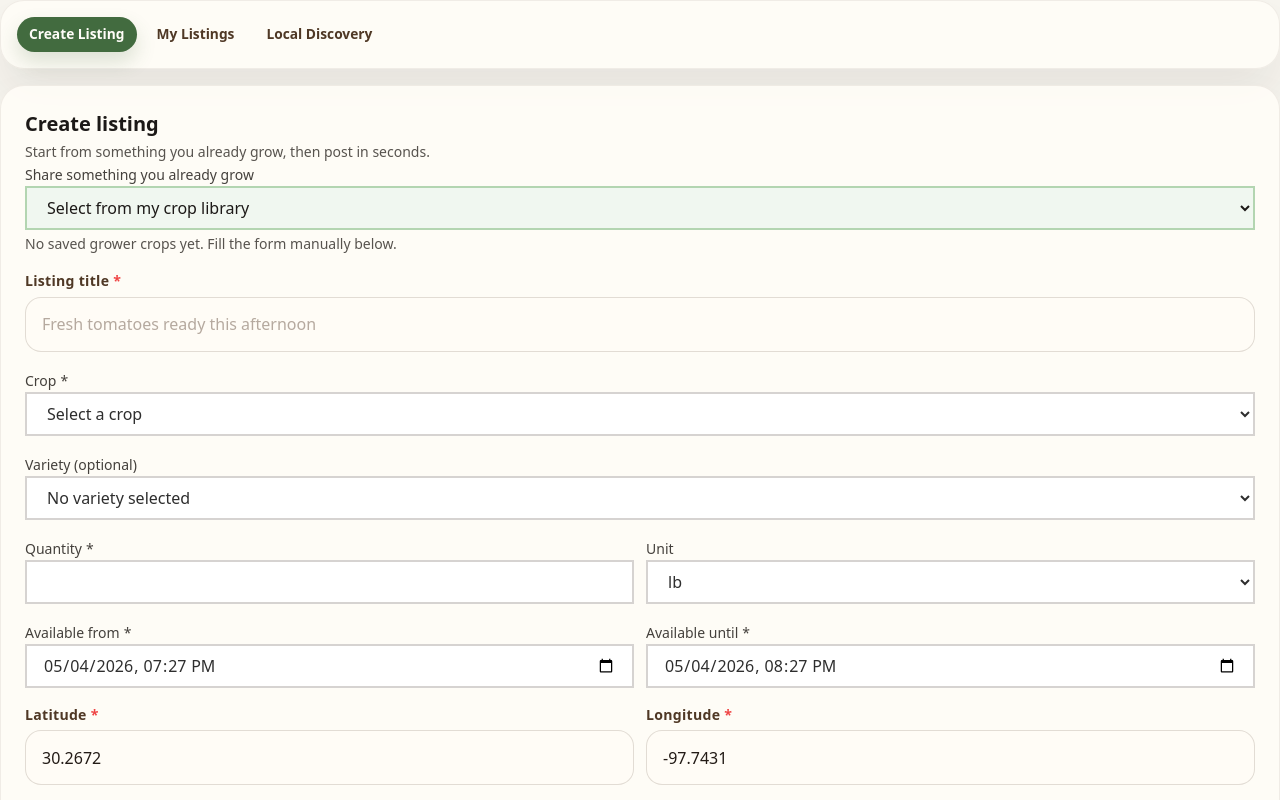
Test: GrowerListingPanel › shows error state when listing queries fail
Click the tab "My Listings". click: (195, 34)
box: [144,17,246,52]
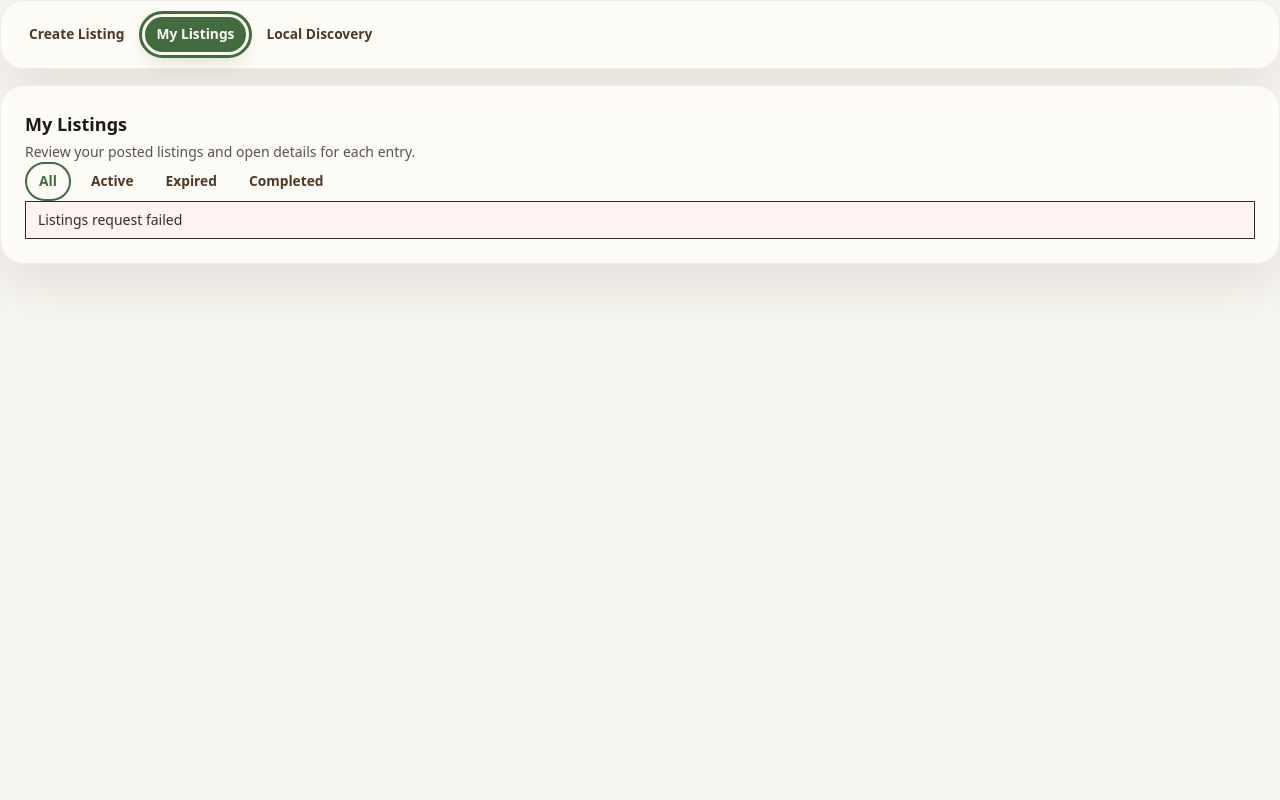
Check: the text "Listings request failed" is shown, box [25,201,1255,239]
